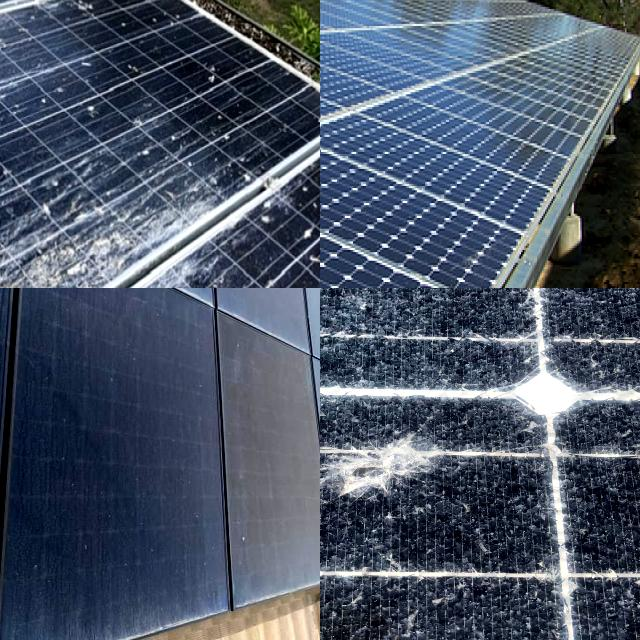bird: (164, 248, 217, 288), (291, 215, 320, 288), (0, 242, 31, 288), (66, 0, 104, 31), (0, 175, 24, 222), (0, 41, 15, 96), (0, 46, 15, 87), (0, 94, 11, 135)
crack: (334, 186, 429, 246), (396, 216, 473, 266), (320, 165, 379, 223), (427, 152, 485, 198), (464, 170, 521, 214), (355, 124, 420, 162), (390, 130, 444, 174), (320, 118, 348, 187), (320, 154, 361, 196), (320, 69, 346, 135), (320, 146, 350, 202), (320, 69, 359, 112), (320, 249, 346, 288), (320, 205, 343, 246), (320, 60, 348, 93), (320, 245, 341, 286), (320, 206, 341, 246), (320, 241, 345, 272), (320, 219, 346, 247), (320, 239, 341, 273), (320, 249, 338, 288), (320, 259, 342, 288), (320, 235, 336, 272), (320, 266, 343, 288), (320, 266, 340, 288)
dust: (0, 343, 178, 436), (0, 457, 156, 533), (160, 475, 320, 531), (98, 288, 275, 328)
hotspot: (320, 417, 519, 535)
